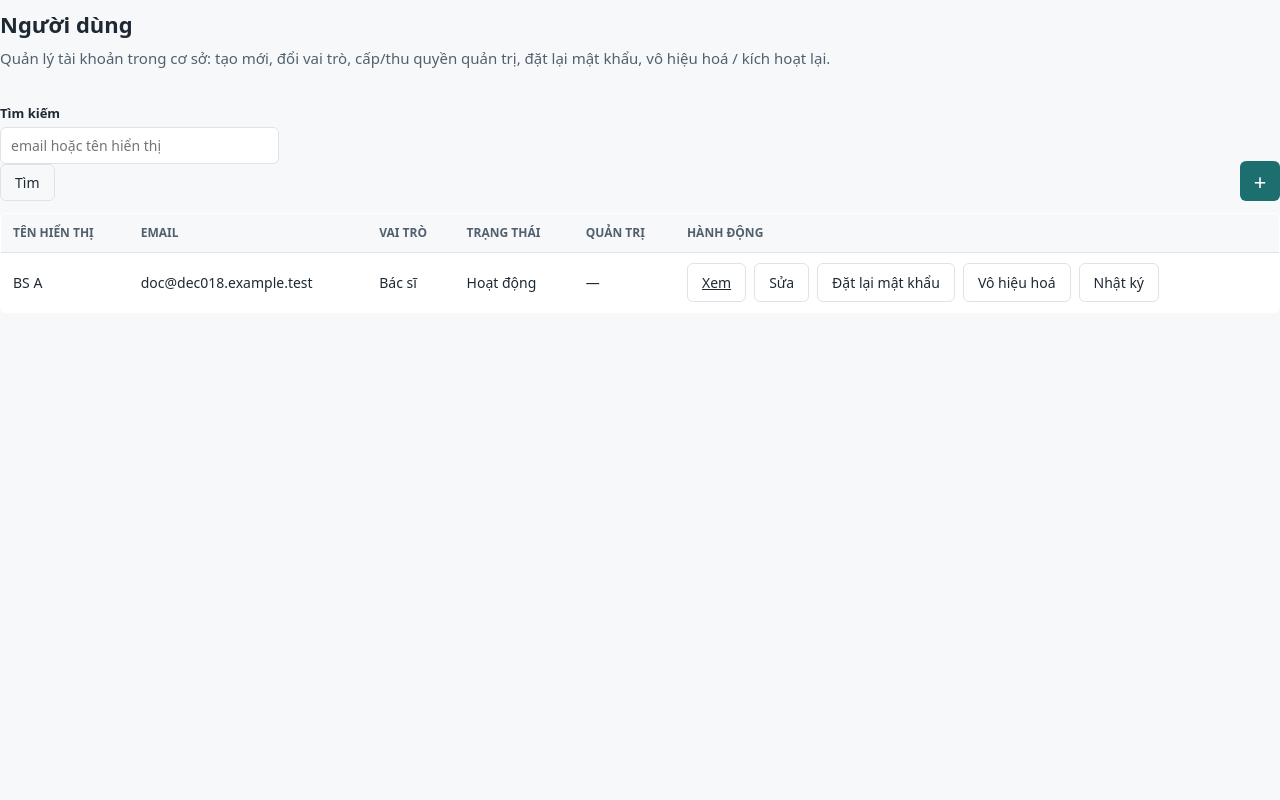
Test: UsersPage (DEC-018 T5) › create modal: on error the message is shown and the modal stays open
The width and height of the screenshot is (1280, 800).
Expected: the text "doc@dec018.example.test" is shown, [129, 252, 367, 312]
Step 1. Click the button named "Thêm người dùng" → (1260, 181), box [1240, 161, 1279, 201]
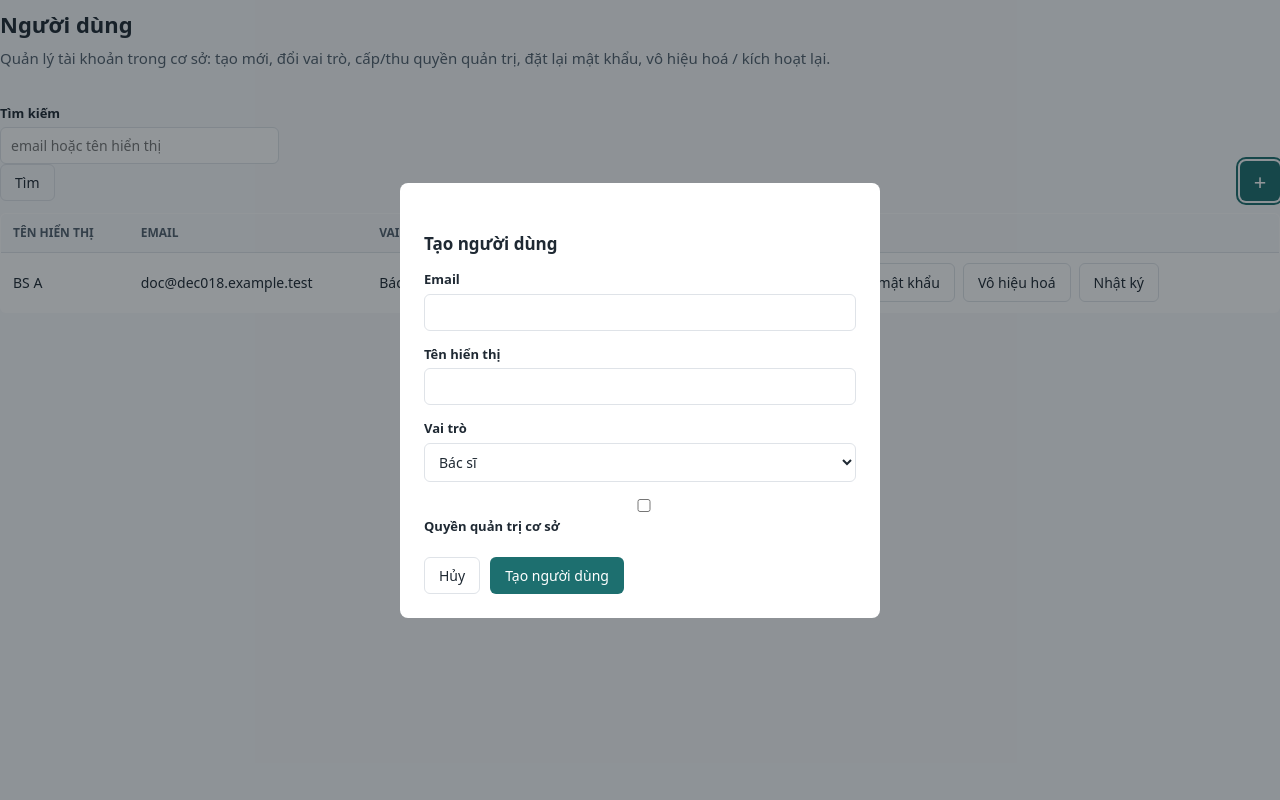
Step 2. Type "dup@dec018.example.test" into the field labelled "Email" → (640, 312), box [424, 294, 856, 330]
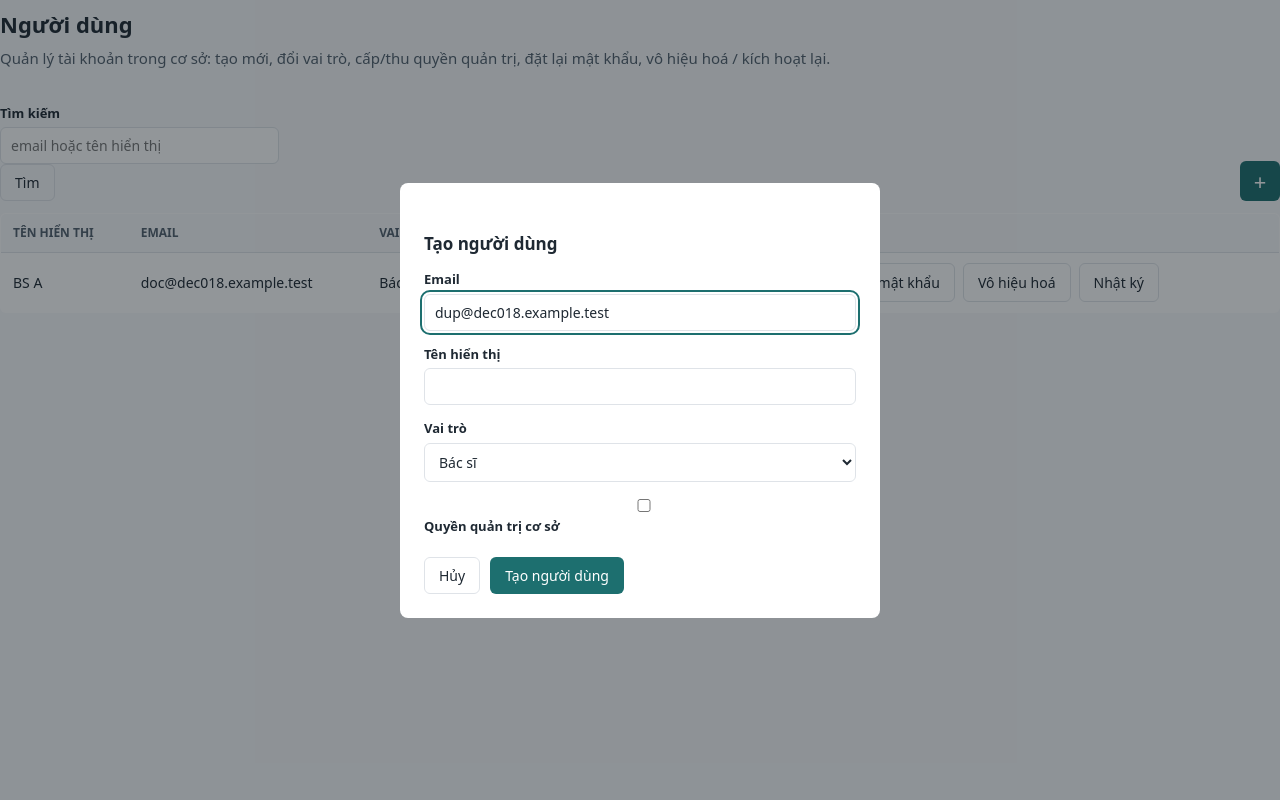
Step 3. Click the button "Tạo người dùng" → (557, 575), box [490, 556, 624, 594]
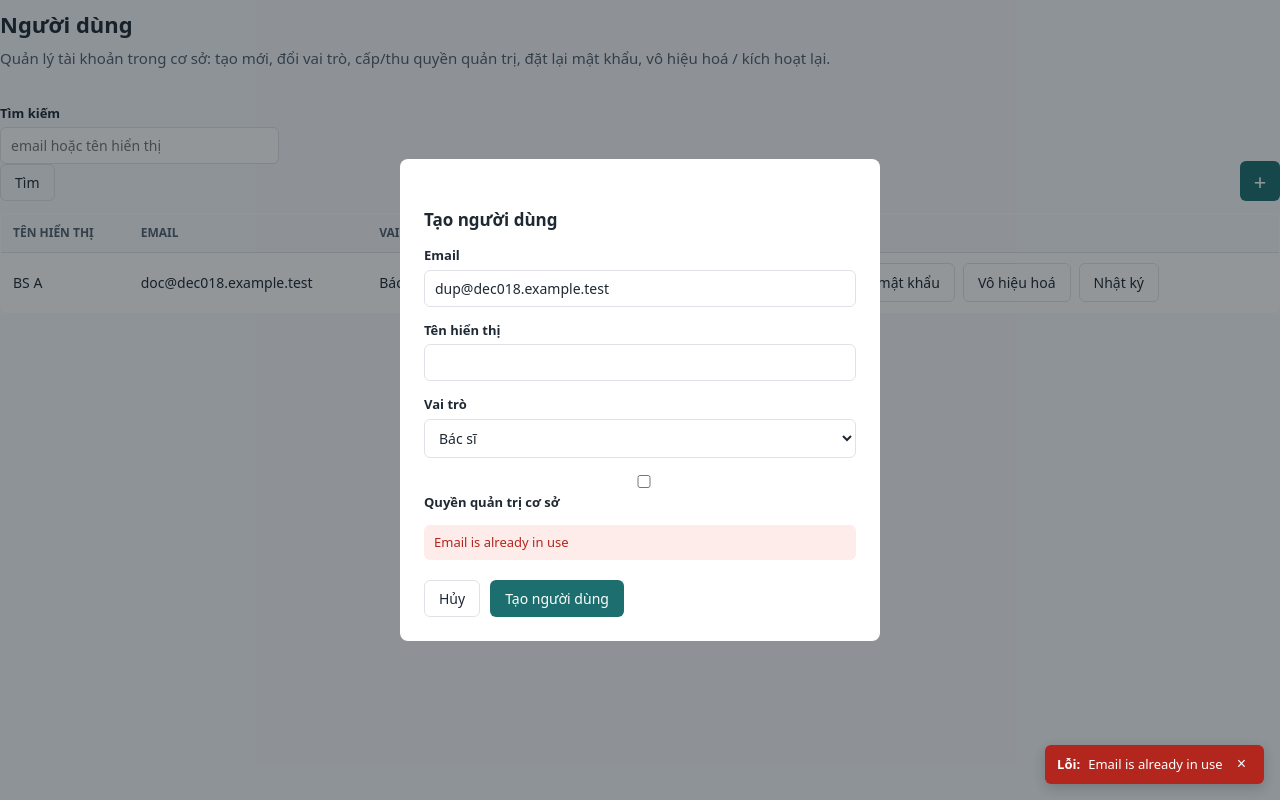
Expected: the dialog is shown
Expected: the text "Email is already in use" is shown, [424, 525, 856, 560]
